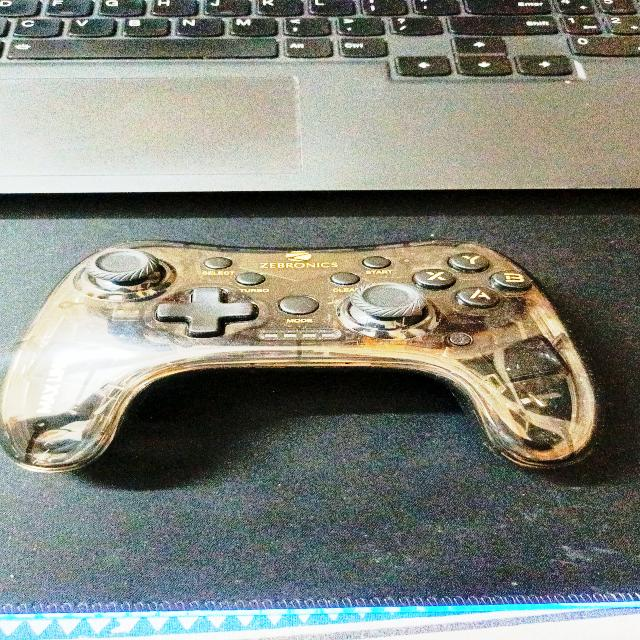gamepad: (0, 237, 599, 474)
